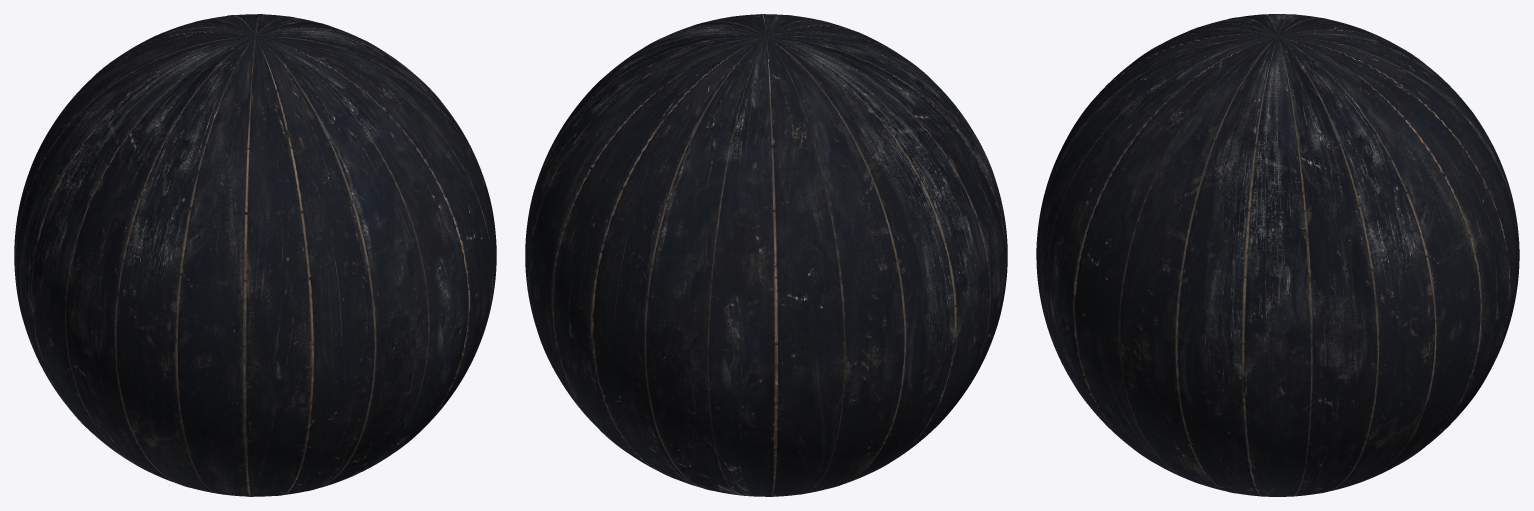
File: black_painted_planks_1k.gltf
The picture shows the model from 3 angles, left to right: view 1: azimuth 30°, elevation 25°; view 2: azimuth 150°, elevation 25°; view 3: azimuth 270°, elevation 25°; orthographic projection.
Parts seen in each view (by area): view 1: sphere_gltf; view 2: sphere_gltf; view 3: sphere_gltf.
Boxes of the visible parts, box(x1,y1,x2,y2) form: sphere_gltf: box(14, 14, 496, 496); sphere_gltf: box(525, 14, 1007, 496); sphere_gltf: box(1036, 14, 1519, 496).
Size of the model in its own units: 1.64 by 1.65 by 1.64.
Materials: 1 (1 with a texture image).
